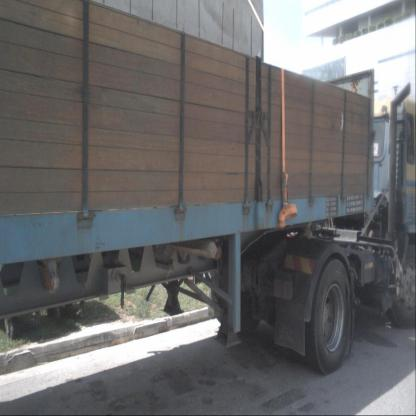vehicle-truck: (0, 0, 415, 376)
